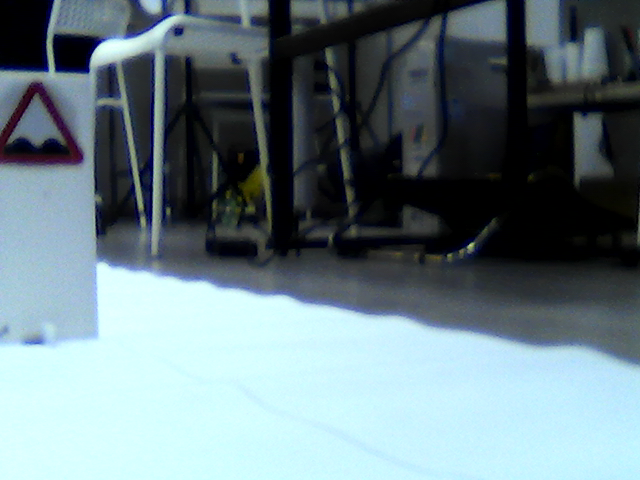Nerov: (1, 78, 87, 168)
